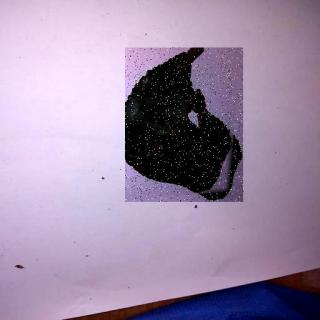Anthracnose: (127, 48, 246, 203)
